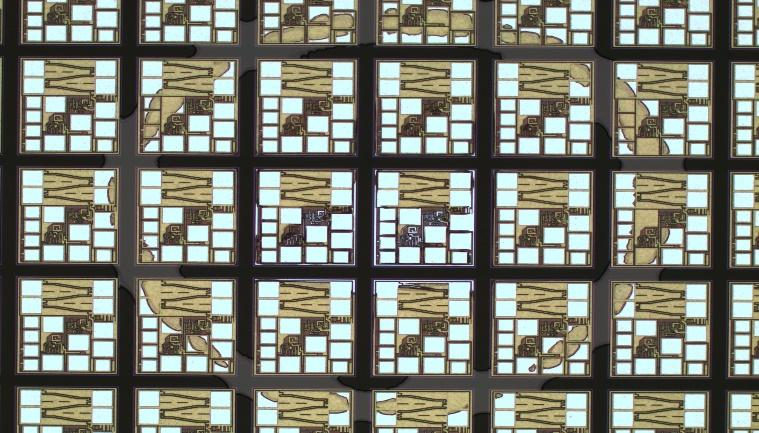COATING BAD: (95, 1, 687, 433)
